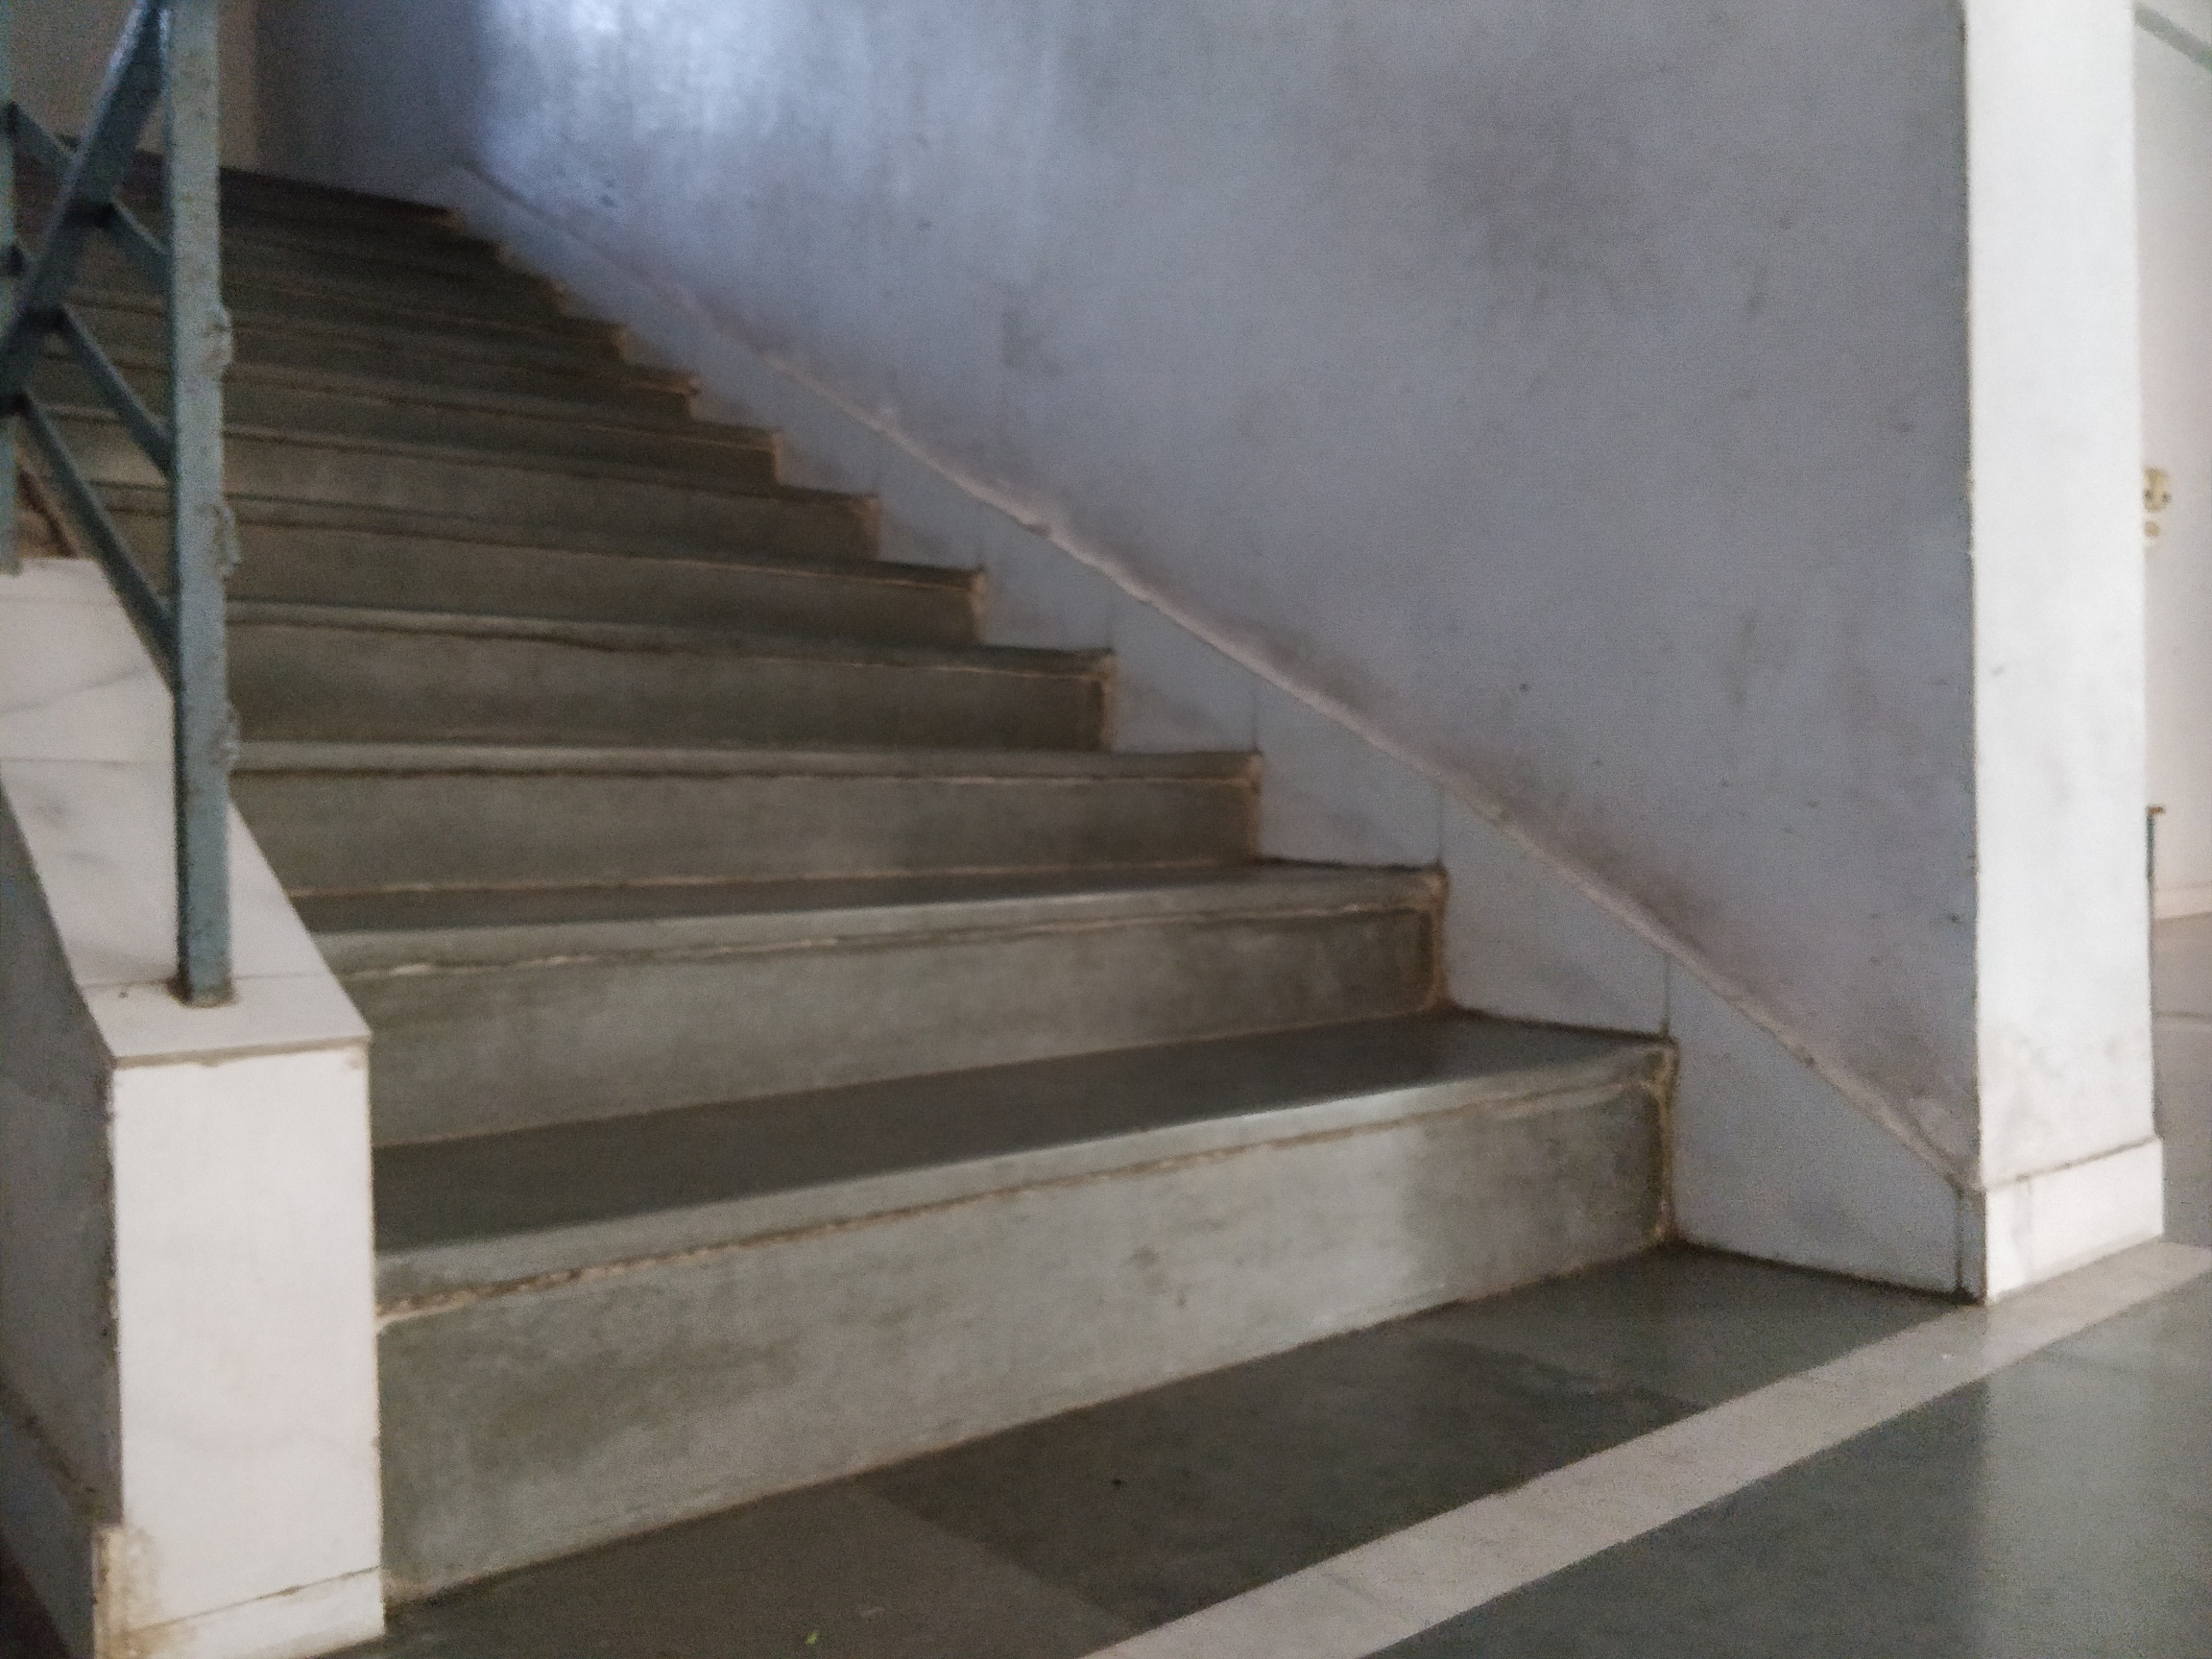stairs_up: (26, 101, 1670, 1486)
